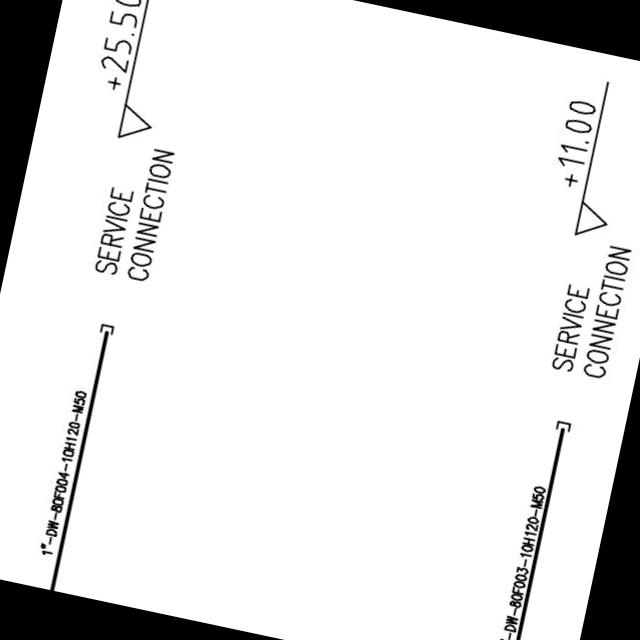EC: (88, 319, 116, 359), (546, 418, 572, 450)
